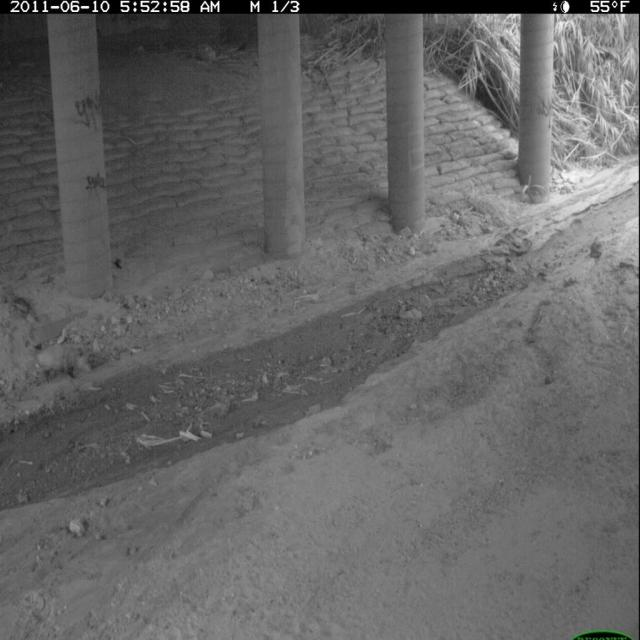opossum: (27, 341, 96, 385)
